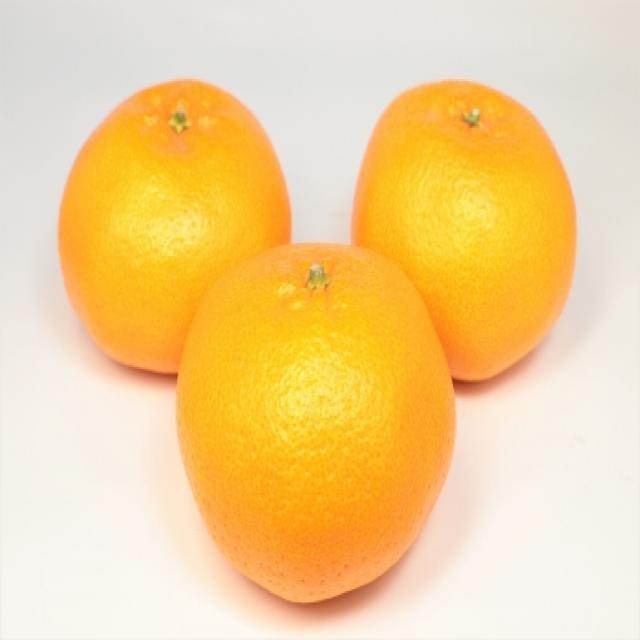Orange: (177, 233, 461, 606), (49, 72, 295, 380), (347, 80, 575, 392)
